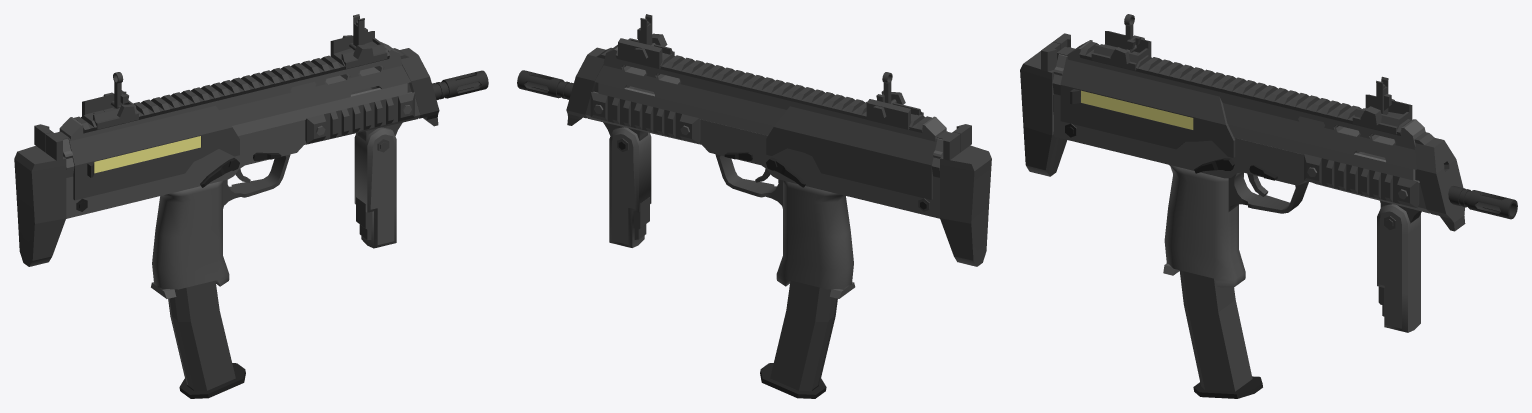
The model's file is Mini_Machinegun.fbx.
3 renders of one model, left to right at view 1: azimuth 30°, elevation 25°; view 2: azimuth 150°, elevation 25°; view 3: azimuth 330°, elevation 25°, orthographic. The views are drawn at different scales.
Visible parts, largest first — view 1: Mini_Machinegun; view 2: Mini_Machinegun; view 3: Mini_Machinegun.
Part boxes in pixels (<box>): Mini_Machinegun: <box>14,14,488,398</box>; Mini_Machinegun: <box>517,14,991,398</box>; Mini_Machinegun: <box>1020,14,1517,398</box>.
Bounding box in the file's own units: 1.24 × 0.8712 × 0.1357.
